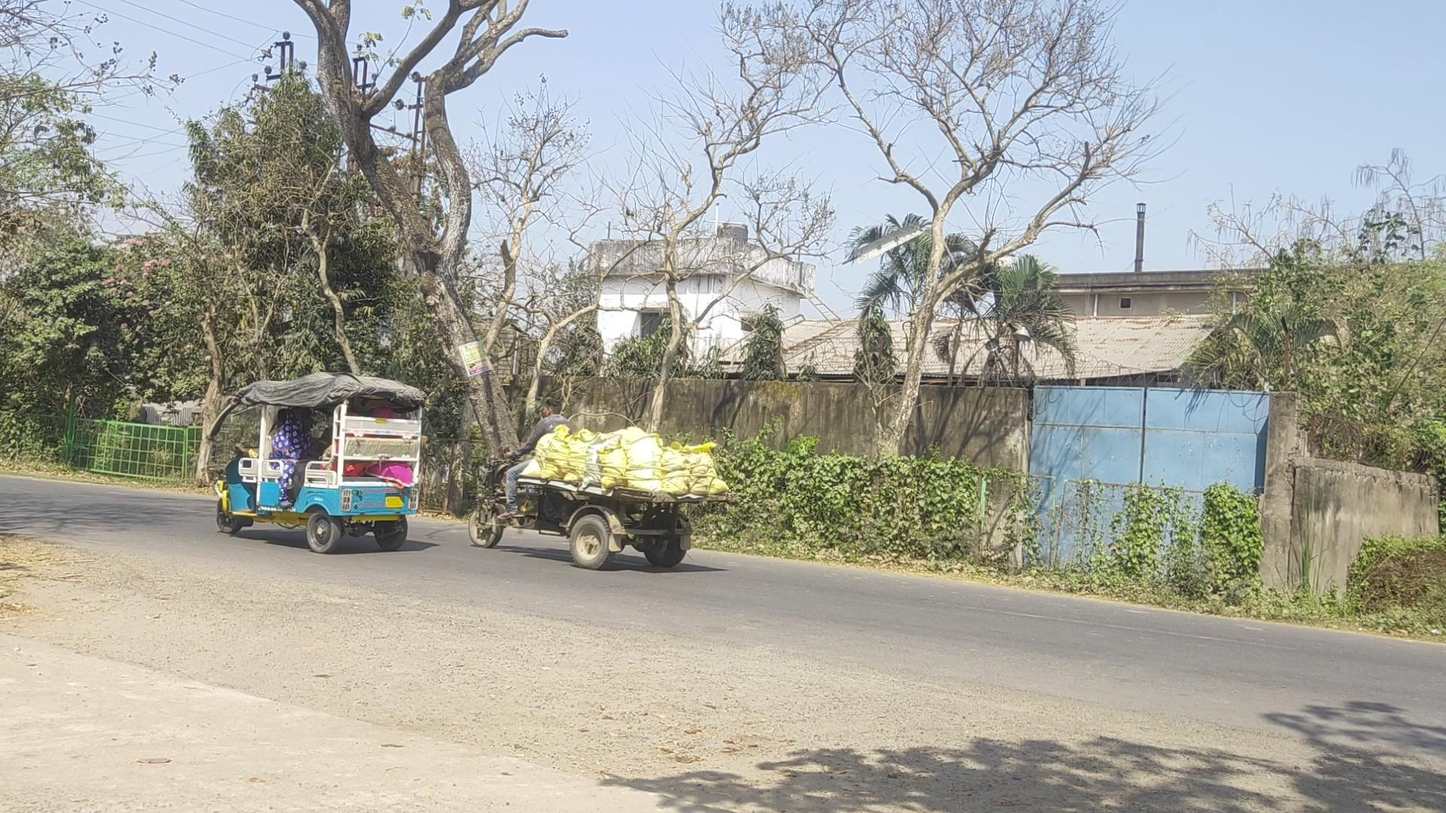Auto: (203, 373, 426, 554)
